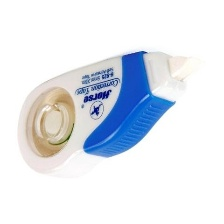correction_fluid: (15, 46, 205, 180)
